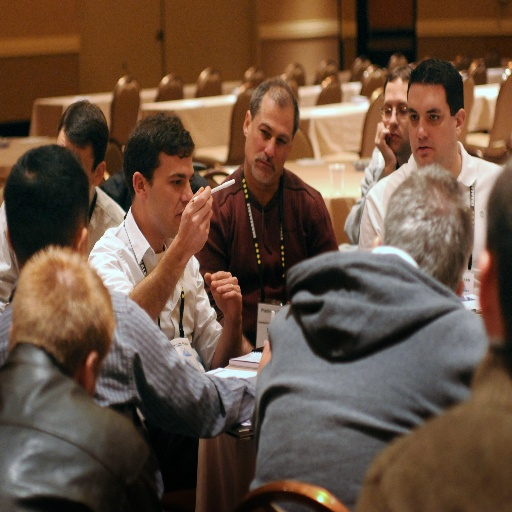hand: (178, 179, 213, 268), (204, 270, 243, 323), (374, 120, 397, 166), (255, 339, 270, 375)
